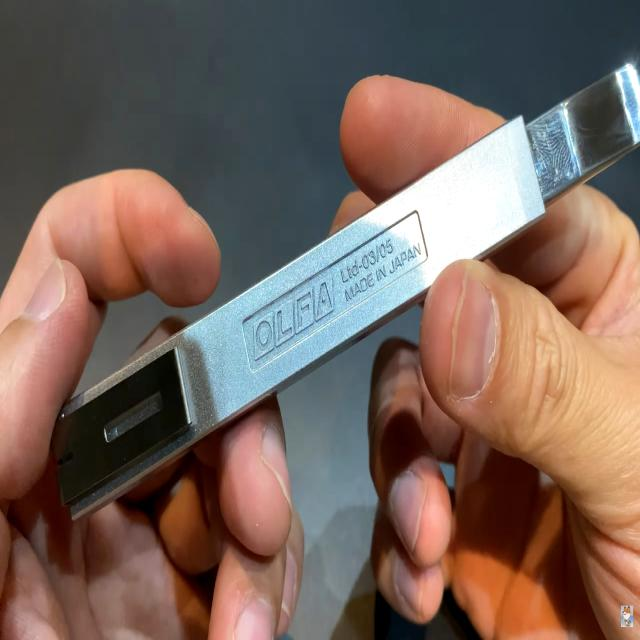cutter: (0, 41, 640, 586)
